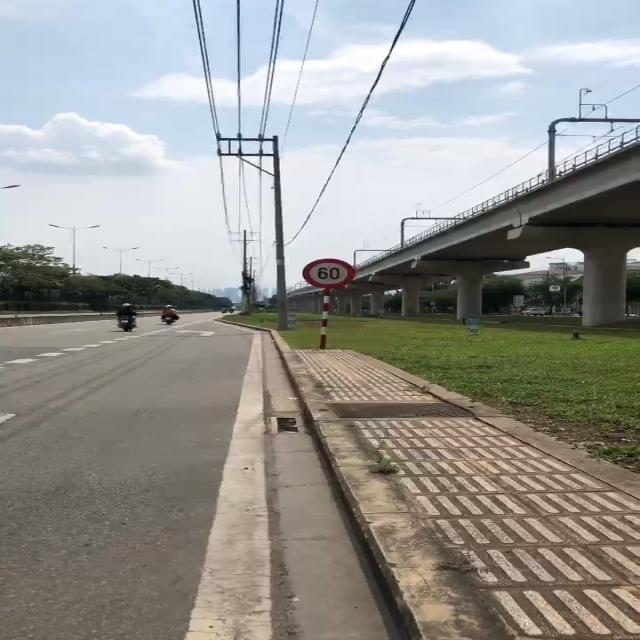Bien bao toc do toi da cho phep: (299, 255, 360, 290)
